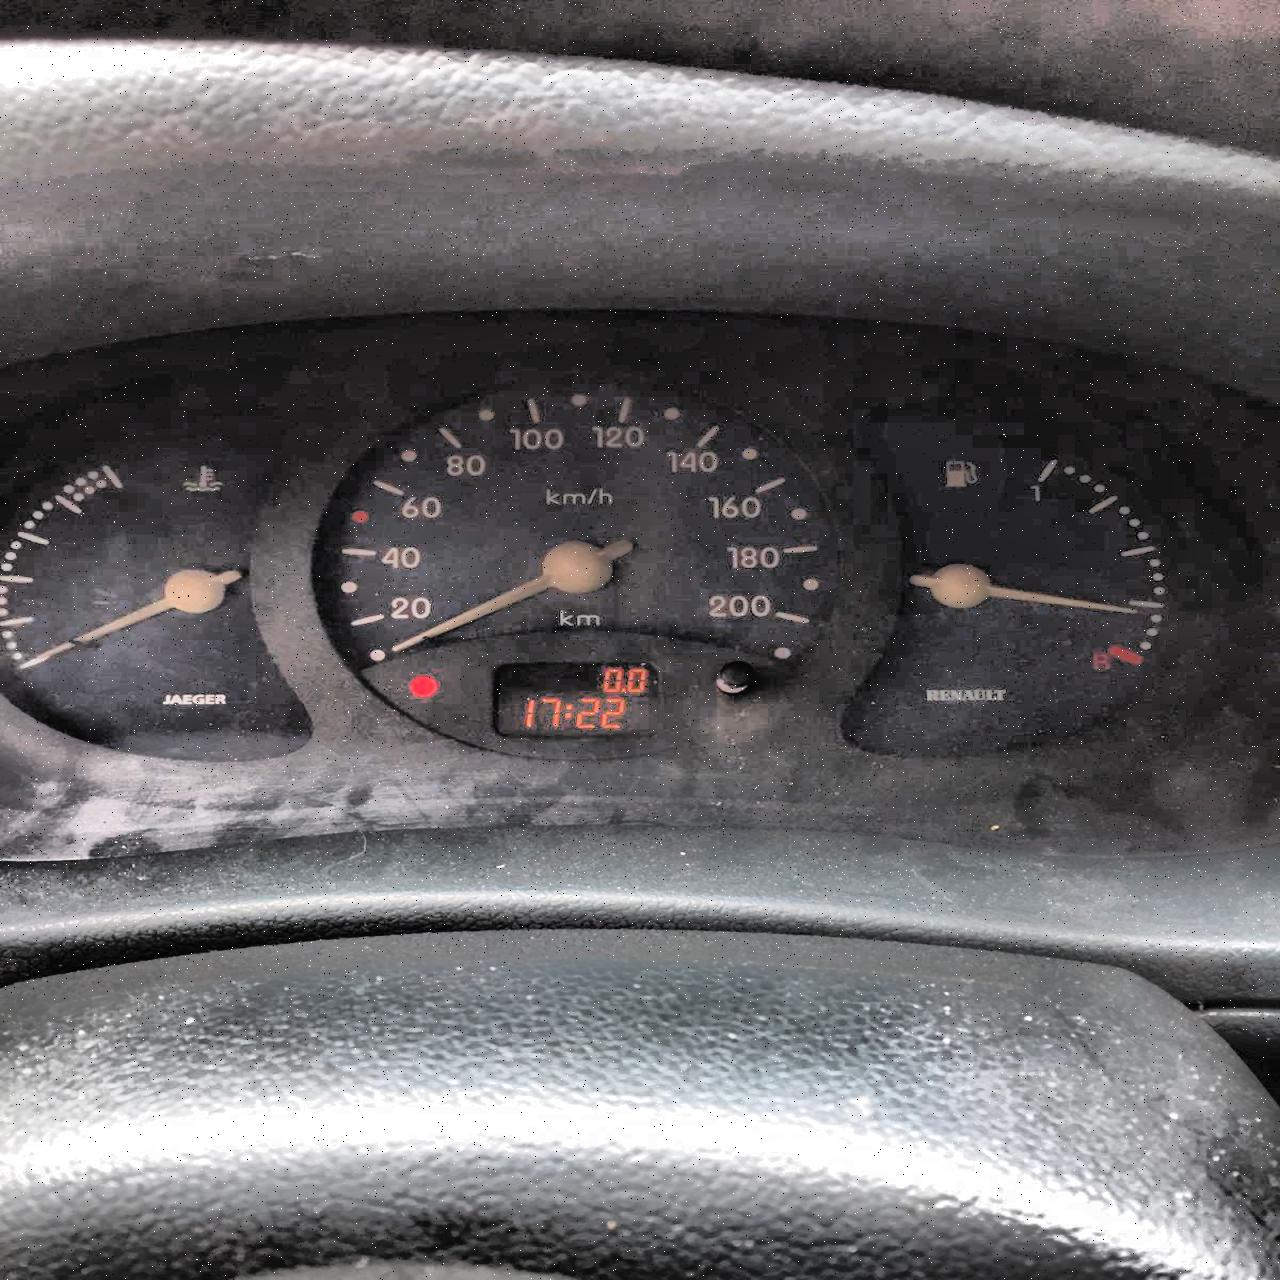-: (620, 686, 626, 692)
0: (626, 667, 645, 692), (602, 668, 620, 692)
1: (525, 699, 535, 727)
2: (599, 697, 624, 728), (574, 697, 599, 728)
7: (539, 697, 561, 727)
X: (564, 703, 572, 719)
odometer: (488, 659, 666, 741)
